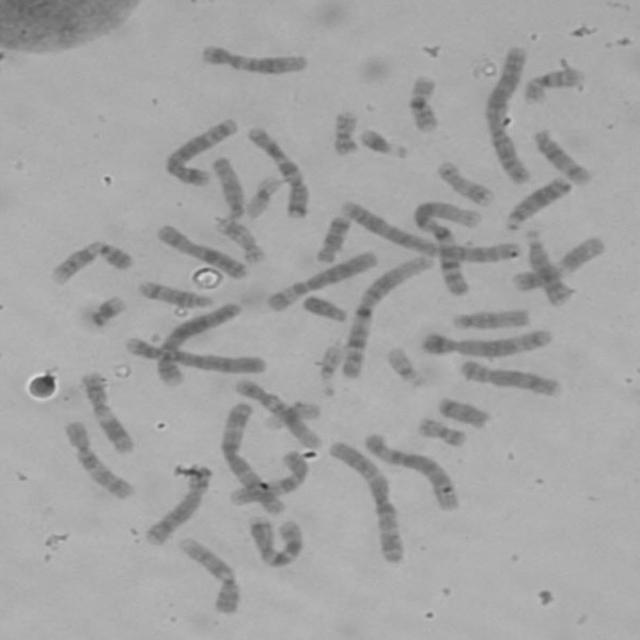A1: (336, 250, 436, 382), (410, 198, 481, 296)
A2: (337, 197, 522, 265), (480, 42, 534, 184)
A3: (325, 436, 407, 567), (218, 399, 287, 515)
B4: (152, 298, 244, 388), (122, 334, 268, 376)
B5: (160, 115, 238, 187), (416, 326, 554, 358)
C10: (59, 417, 137, 502), (225, 448, 310, 509)
C11: (507, 233, 607, 293), (76, 368, 137, 454)
C12: (230, 374, 322, 449), (197, 41, 311, 76)
C6: (361, 431, 461, 514), (262, 248, 378, 312)
C7: (242, 123, 311, 219), (244, 513, 306, 569)
C8: (141, 463, 212, 546), (455, 357, 563, 399)
C9: (175, 535, 243, 615), (45, 237, 136, 286)
D13: (520, 227, 575, 307), (502, 172, 575, 230)
D14: (530, 126, 592, 187), (134, 278, 214, 308)
D15: (206, 154, 247, 222), (448, 305, 531, 331)
E16: (518, 66, 584, 106), (403, 72, 442, 134)
E17: (434, 160, 494, 207), (212, 214, 265, 264)
E18: (312, 212, 353, 263), (435, 395, 491, 430)
F19: (260, 398, 322, 432), (244, 172, 284, 220)
F20: (413, 414, 468, 449), (329, 108, 361, 156)
G21: (354, 124, 411, 160), (85, 293, 127, 329)
G22: (383, 345, 424, 387), (316, 339, 344, 396)
X: (154, 222, 248, 280)
Y: (298, 291, 351, 323)
